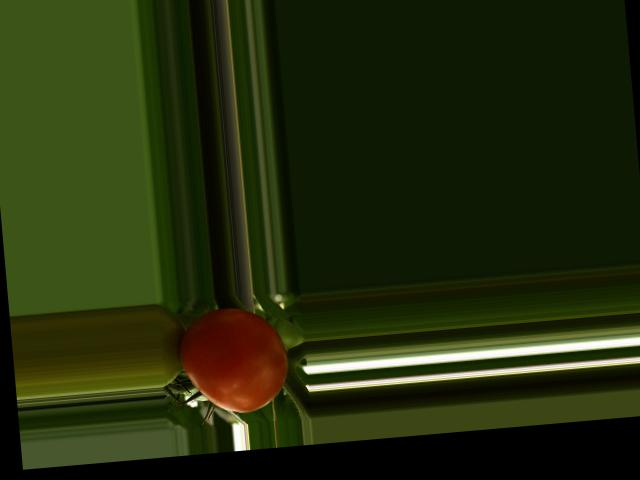tomato: (176, 303, 291, 418)
